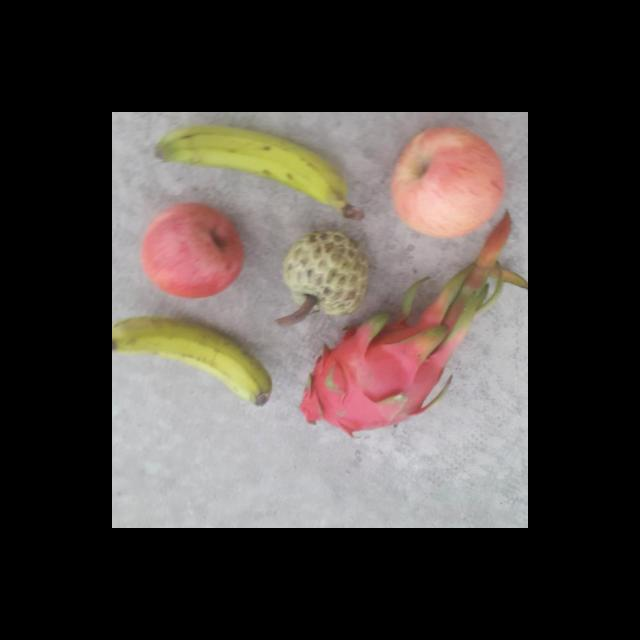Sakya fruit: (284, 225, 371, 321)
apple: (382, 121, 506, 242), (133, 200, 246, 304)
banana: (139, 113, 365, 227), (112, 315, 274, 406)
pitaya: (298, 315, 460, 439)
